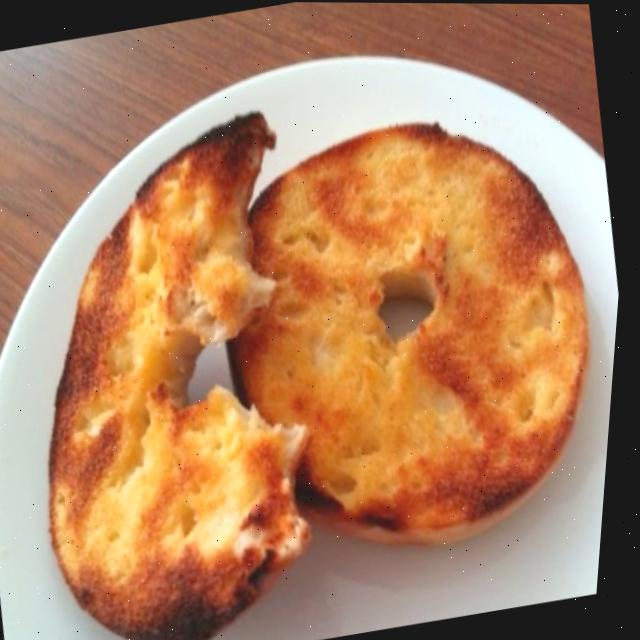面包点心: (0, 1, 640, 640)
